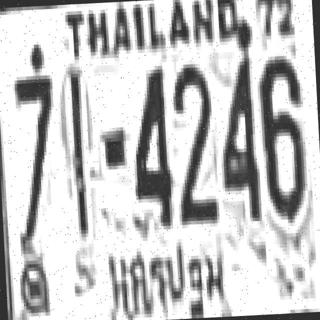N02: (170, 60, 215, 208), (169, 62, 214, 196)
N04: (126, 62, 173, 228), (216, 54, 260, 219)
N06: (256, 54, 306, 219)
N07: (12, 72, 57, 213)
P28: (98, 240, 232, 320)
